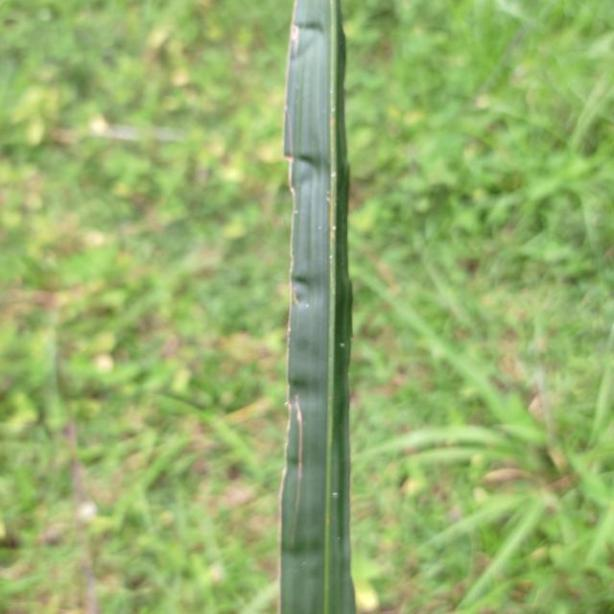Boron: (275, 0, 361, 614)
